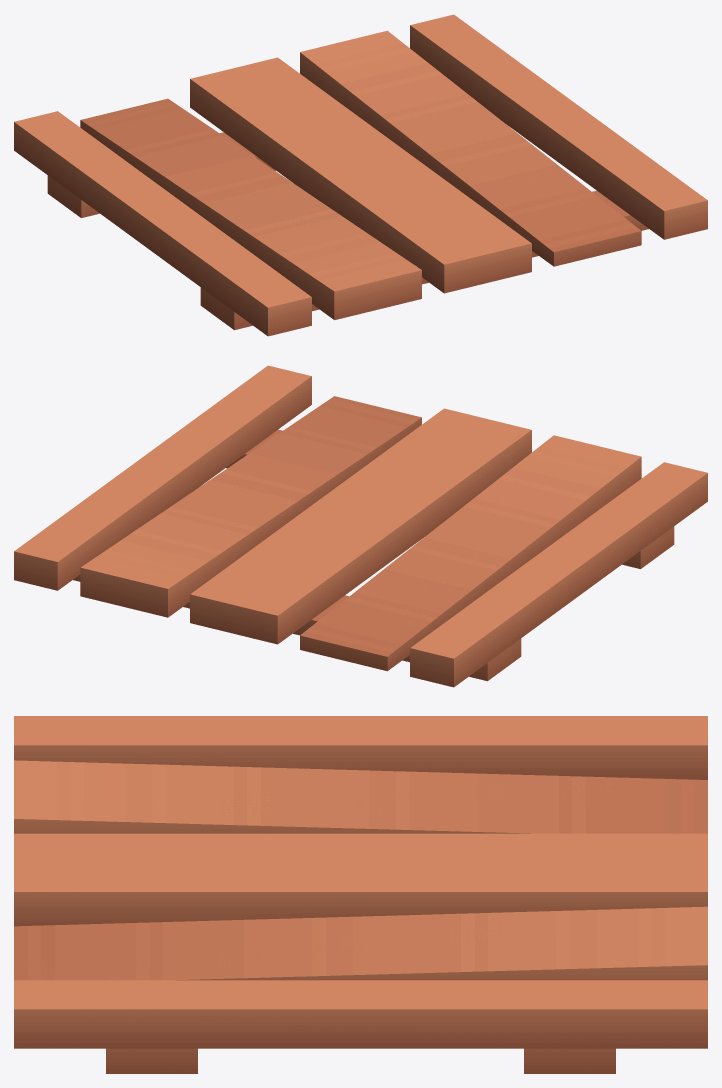
Rendered from floor-old.glb.
3 renders of one model, top to bottom at view 1: azimuth 30°, elevation 25°; view 2: azimuth 150°, elevation 25°; view 3: azimuth 270°, elevation 25°, orthographic. The views are drawn at different scales.
Visible parts, largest first — view 1: floor-old; view 2: floor-old; view 3: floor-old.
Boxes of the visible parts, bbox=[...] form: floor-old: bbox=[14, 14, 707, 336]; floor-old: bbox=[14, 365, 707, 687]; floor-old: bbox=[14, 716, 707, 1073].
Bounding box in the file's own units: 0.5 × 0.0512 × 0.5.
1 material, 1 textured.
